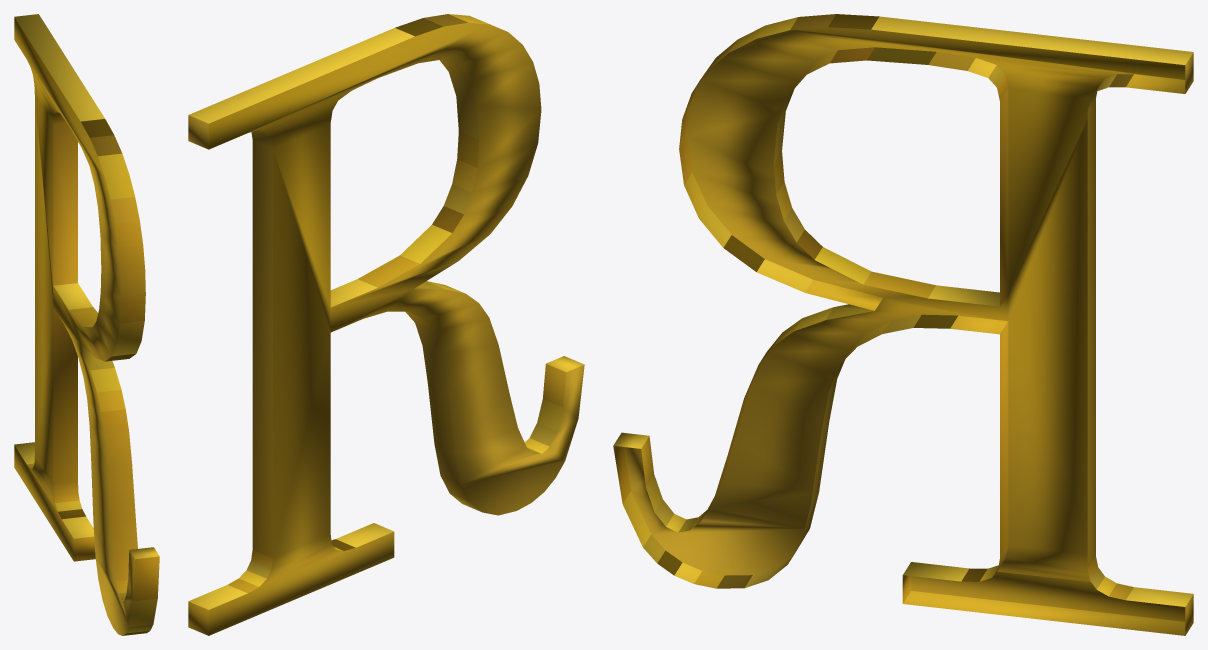
File: original-26.obj
The picture shows the model from 3 angles, left to right: view 1: azimuth 30°, elevation 25°; view 2: azimuth 150°, elevation 25°; view 3: azimuth 270°, elevation 25°; orthographic projection. The views are drawn at different scales.
Visible parts, largest first — view 1: mesh8/mesh8-geometry/material_3/component_4#mesh8-geometry; view 2: mesh8/mesh8-geometry/material_3/component_4#mesh8-geometry; view 3: mesh8/mesh8-geometry/material_3/component_4#mesh8-geometry.
Part boxes in pixels (<box>): mesh8/mesh8-geometry/material_3/component_4#mesh8-geometry: <box>14,14,159,635</box>; mesh8/mesh8-geometry/material_3/component_4#mesh8-geometry: <box>188,14,584,635</box>; mesh8/mesh8-geometry/material_3/component_4#mesh8-geometry: <box>613,14,1193,635</box>.
Size of the model in its own units: 0.00871 by 0.03 by 0.0274.
